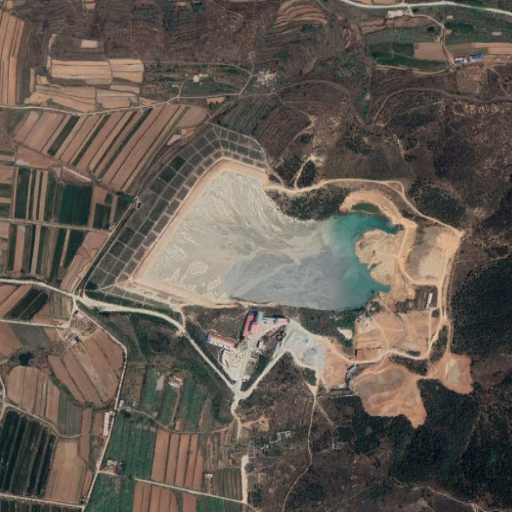tp: (121, 159, 408, 315)
